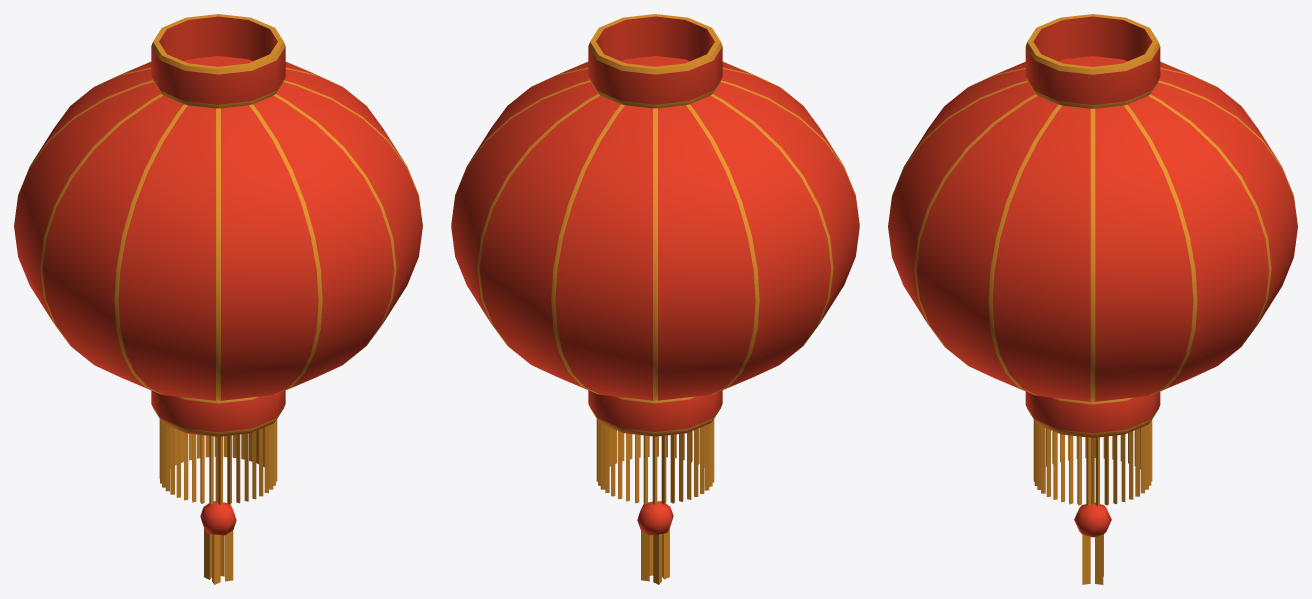
Rendered from lantern_chinese.glb.
3 views of the same model, side by side, from view 1: azimuth 30°, elevation 25°; view 2: azimuth 150°, elevation 25°; view 3: azimuth 270°, elevation 25° (orthographic).
Visible parts, largest first — view 1: 1.055, 0.092; view 2: 1.055, 0.092; view 3: 1.055, 0.092.
Boxes of the visible parts, x1,y1,x2,y2 form: 1.055: [14, 16, 422, 535]; 0.092: [14, 14, 422, 584]; 1.055: [451, 16, 859, 535]; 0.092: [451, 14, 859, 584]; 1.055: [888, 16, 1297, 537]; 0.092: [888, 14, 1297, 584].
Bounding box in the file's own units: 0.5501 × 0.7979 × 0.5501.
